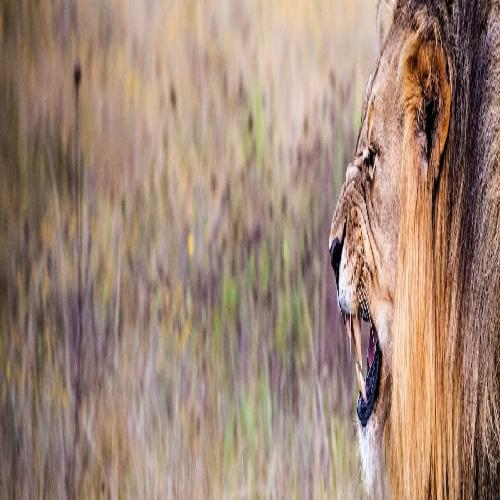lion-endangered: (326, 11, 497, 492)
